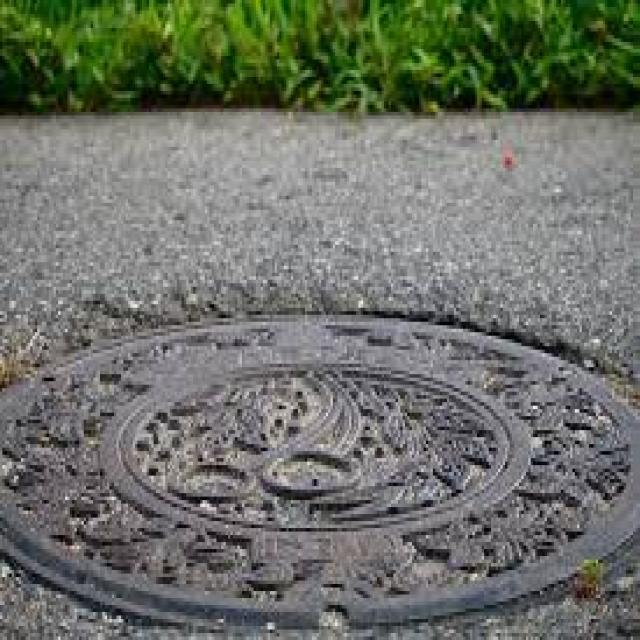Sewer Cover: (3, 321, 640, 640)
